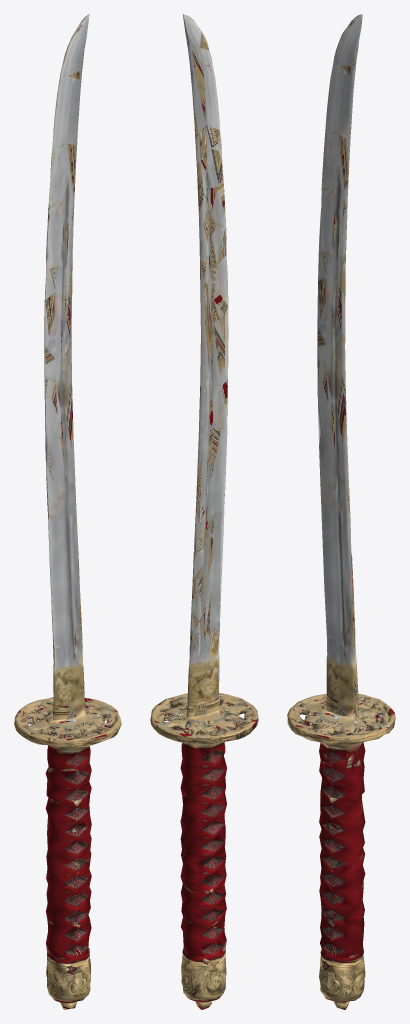
File: weapon_joseon_hwando_lod1.glb
3 renders of one model, left to right at view 1: azimuth 30°, elevation 25°; view 2: azimuth 210°, elevation 25°; view 3: azimuth 330°, elevation 25°, orthographic.
Size of the model in its own units: 0.0945 by 0.9588 by 0.0933.
1 material, 1 textured.
